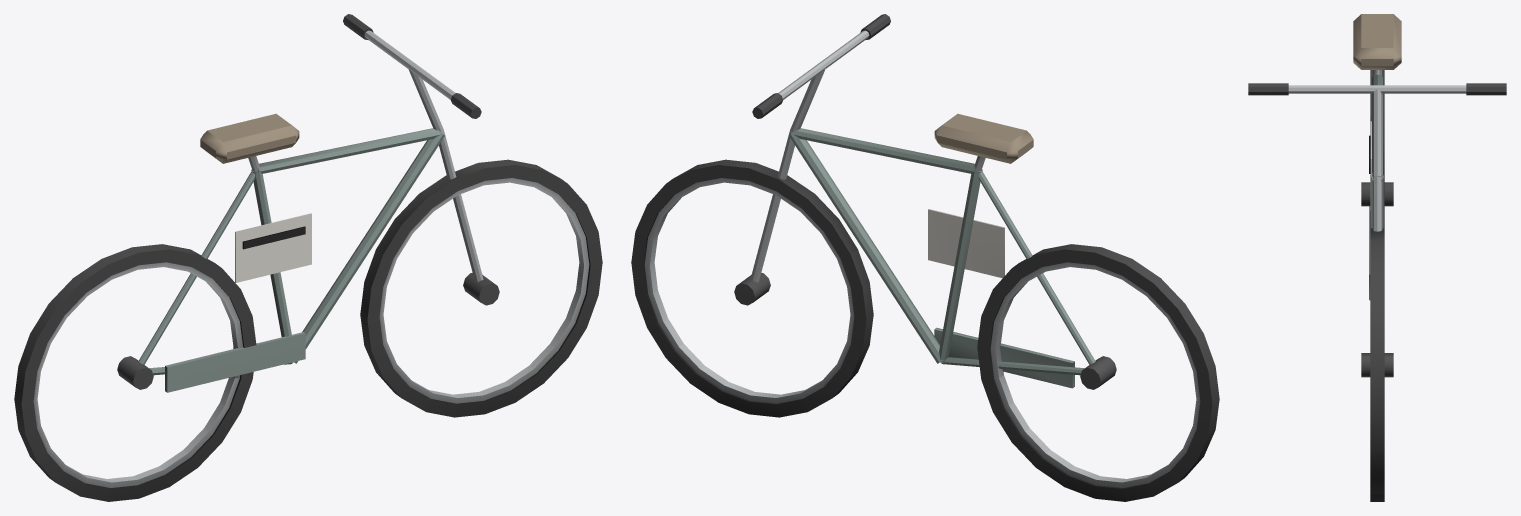
File: kept_bicycle.glb
The picture shows the model from 3 angles, left to right: view 1: azimuth 30°, elevation 25°; view 2: azimuth 150°, elevation 25°; view 3: azimuth 270°, elevation 25°; orthographic projection.
Parts seen in each view (by area): view 1: static; view 2: static; view 3: static.
Boxes of the visible parts, left/top/right/bottom form: static: left=14, top=14, right=602, bottom=501; static: left=631, top=14, right=1219, bottom=501; static: left=1248, top=14, right=1506, bottom=501.
Bounding box in the file's own units: 1.68 × 1.02 × 0.64.
